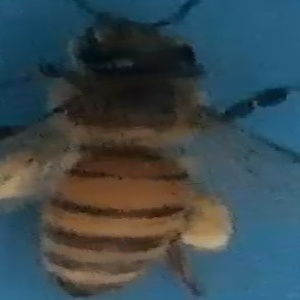bee: (10, 4, 287, 300)
